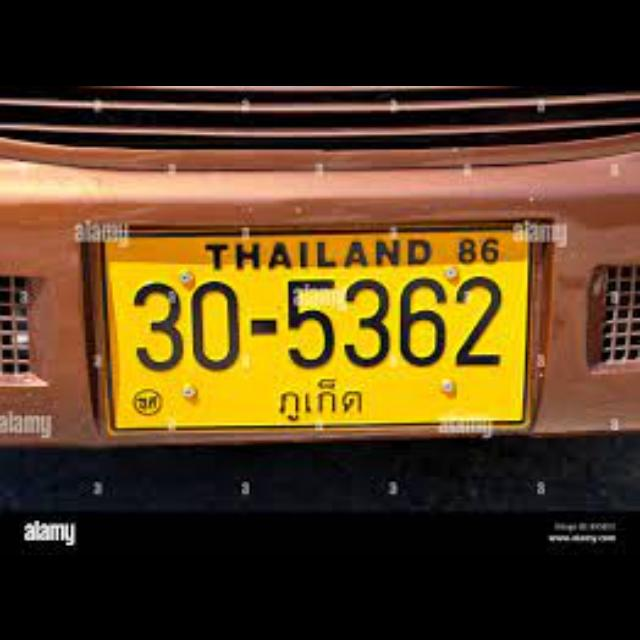licenseplate: (100, 226, 530, 428)
